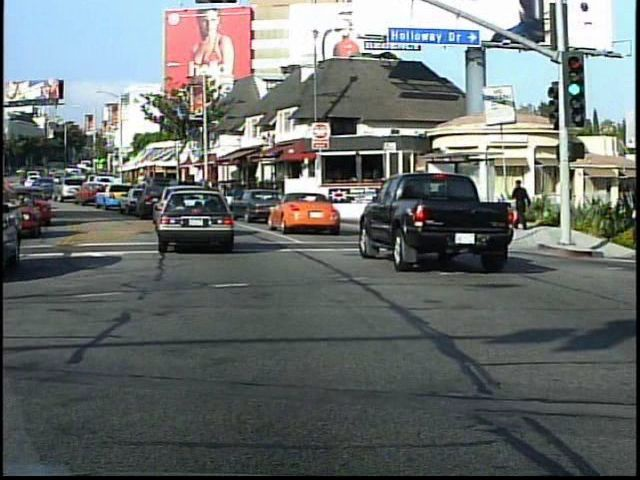person: (611, 192, 638, 263), (508, 175, 533, 234)
